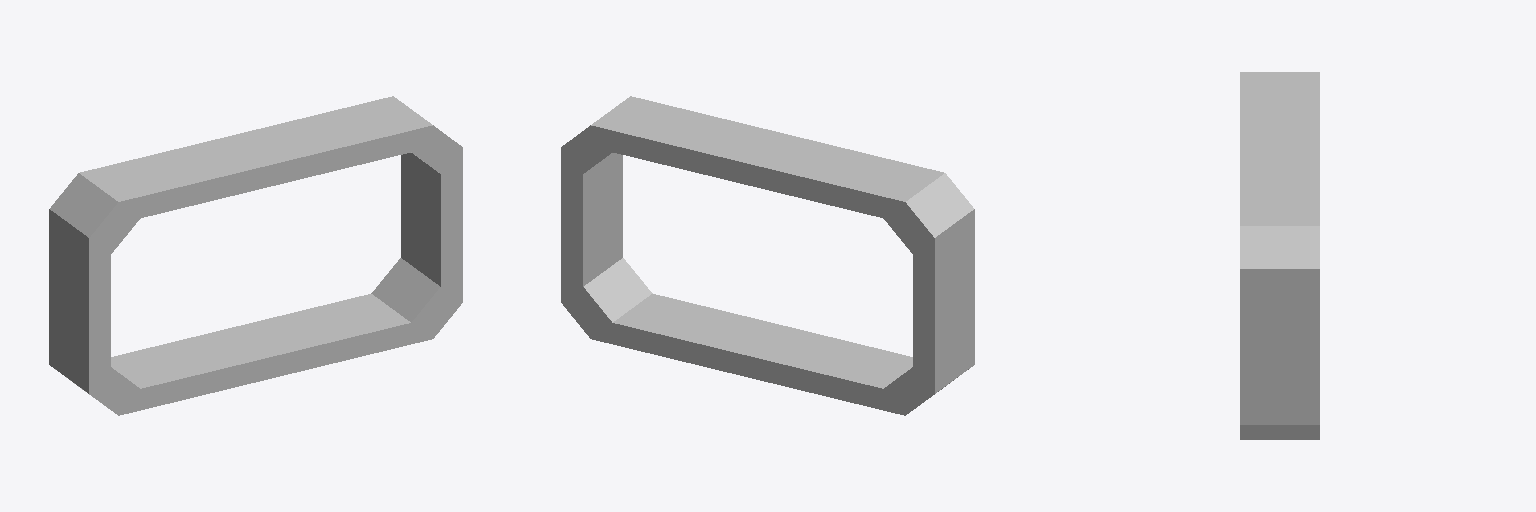
Rendered from neonFrame.obj.
The picture shows the model from 3 angles: view 1: azimuth 30°, elevation 25°; view 2: azimuth 150°, elevation 25°; view 3: azimuth 270°, elevation 25°; orthographic projection.
Parts seen in each view (by area): view 1: 立方体; view 2: 立方体; view 3: 立方体.
Boxes of the visible parts, <box> form: 立方体: <box>49,96,462,415</box>; 立方体: <box>561,96,974,415</box>; 立方体: <box>1240,72,1319,439</box>.
Bounding box in the file's own units: 3.65 × 2 × 0.6772.